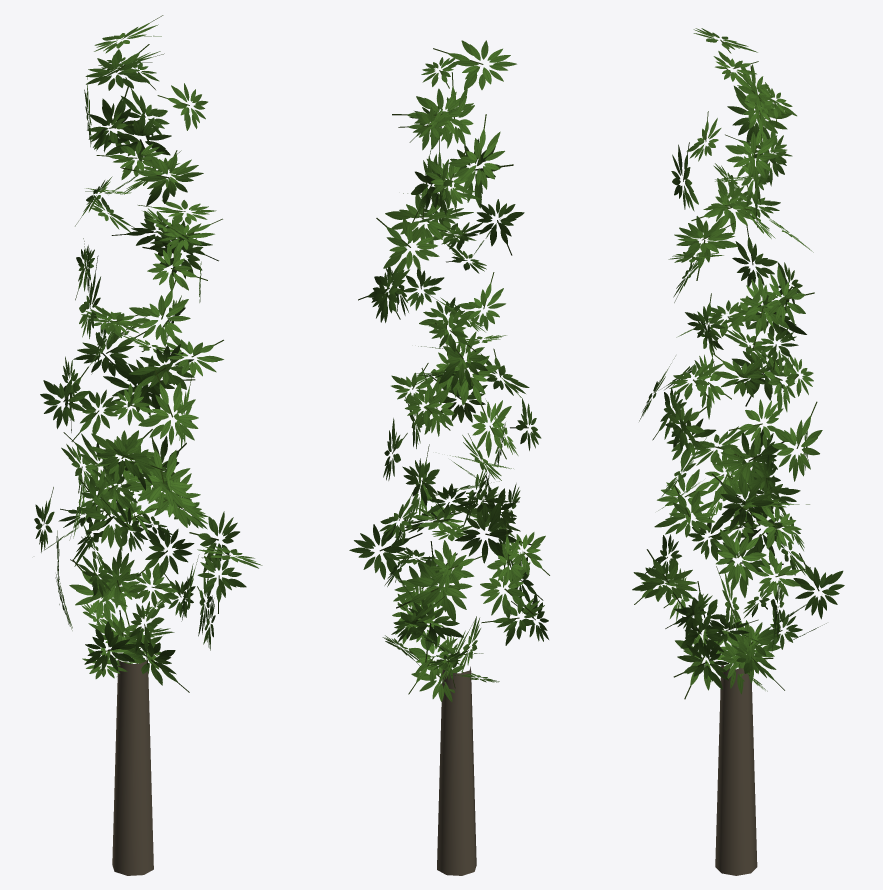
File: poplar.glb
The picture shows the model from 3 angles, left to right: view 1: azimuth 30°, elevation 25°; view 2: azimuth 150°, elevation 25°; view 3: azimuth 270°, elevation 25°; orthographic projection. The views are drawn at different scales.
Visible parts, largest first — view 1: Poplar; view 2: Poplar; view 3: Poplar.
Boxes of the visible parts, x1,y1,x2,y2 form: Poplar: [34, 15, 262, 875]; Poplar: [349, 40, 549, 875]; Poplar: [632, 28, 844, 875].
Bounding box in the file's own units: 3.67 × 12.4 × 3.53.
2 materials, 1 textured.
